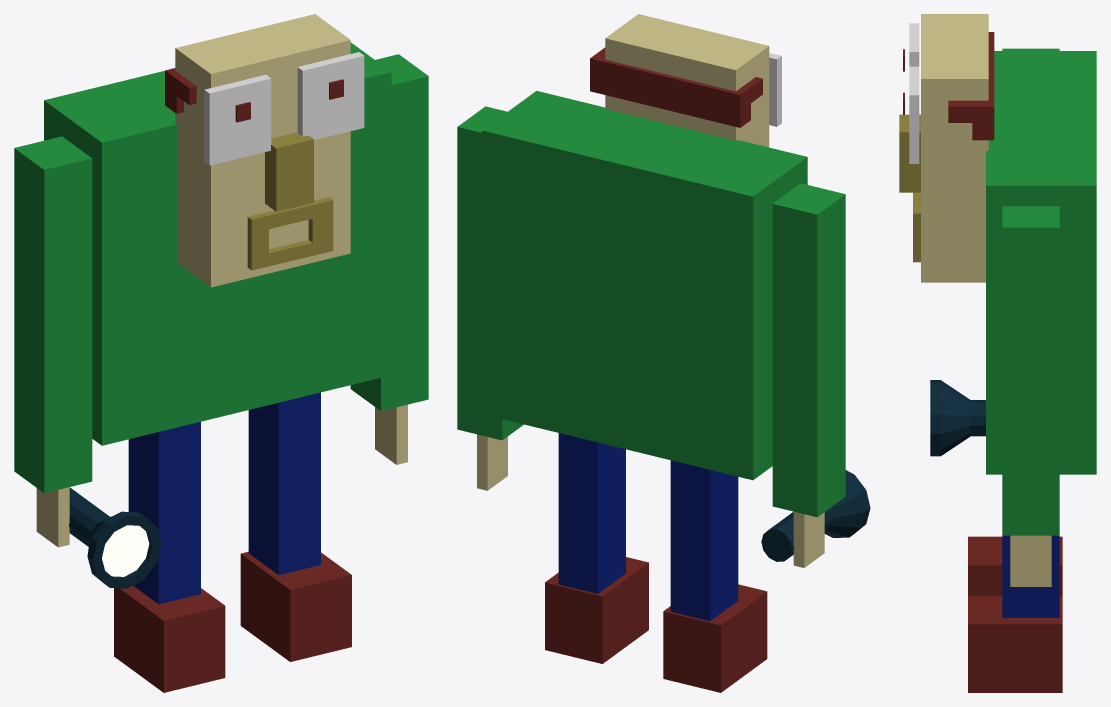
The model's file is man.glb.
3 renders of one model, left to right at view 1: azimuth 30°, elevation 25°; view 2: azimuth 150°, elevation 25°; view 3: azimuth 270°, elevation 25°, orthographic. The views are drawn at different scales.
Parts seen in each view (by area): view 1: Cube, Cube.006, Cube.003, Cube.004, Cube.008, Cube.007, Cube.012, Cube.011, Cylinder, Cube.014, Cube.015, Cube.020 (+4 smaller); view 2: Cube, Cube.006, Cube.003, Cube.007, Cube.008, Cube.004, Cube.012, Cube.011, Cube.019, Cylinder, Cube.009, Cube.010 (+1 smaller); view 3: Cube, Cube.004, Cube.003, Cube.011, Cylinder, Cube.008, Cube.012, Cube.010, Cube.019, Cube.018, Cube.015, Cube.020 (+1 smaller).
Part boxes in pixels (bbox=[...]): Cube: bbox=[44, 42, 391, 445]; Cube.006: bbox=[14, 136, 92, 493]; Cube.003: bbox=[175, 14, 350, 287]; Cube.004: bbox=[350, 54, 428, 410]; Cube.008: bbox=[248, 392, 320, 574]; Cube.007: bbox=[128, 421, 200, 604]; Cube.012: bbox=[114, 586, 225, 692]; Cube.011: bbox=[240, 551, 351, 661]; Cylinder: bbox=[69, 487, 161, 588]; Cube.014: bbox=[204, 74, 271, 165]; Cube.015: bbox=[297, 52, 364, 139]; Cube.020: bbox=[247, 197, 333, 270]; Cube: bbox=[482, 91, 807, 480]; Cube.006: bbox=[772, 183, 845, 517]; Cube.003: bbox=[605, 14, 769, 147]; Cube.007: bbox=[670, 460, 738, 621]; Cube.008: bbox=[558, 433, 625, 593]; Cube.004: bbox=[457, 106, 523, 440]; Cube.012: bbox=[663, 584, 767, 692]; Cube.011: bbox=[545, 557, 648, 663]; Cube.019: bbox=[590, 47, 762, 127]; Cylinder: bbox=[761, 470, 870, 561]; Cube.009: bbox=[793, 511, 824, 567]; Cube.010: bbox=[477, 434, 507, 490]; Cube: bbox=[986, 51, 1096, 474]; Cube.004: bbox=[1002, 206, 1059, 535]; Cube.003: bbox=[921, 14, 988, 282]; Cube.011: bbox=[968, 595, 1062, 692]; Cylinder: bbox=[930, 380, 985, 456]; Cube.008: bbox=[1002, 535, 1059, 617]; Cube.012: bbox=[968, 536, 1062, 595]; Cube.010: bbox=[1010, 535, 1051, 586]; Cube.019: bbox=[948, 32, 994, 140]; Cube.018: bbox=[899, 114, 920, 192]; Cube.015: bbox=[909, 66, 919, 163]; Cube.020: bbox=[913, 192, 920, 262].
Bounding box in the file's own units: 2.66 × 4.17 × 1.24.
